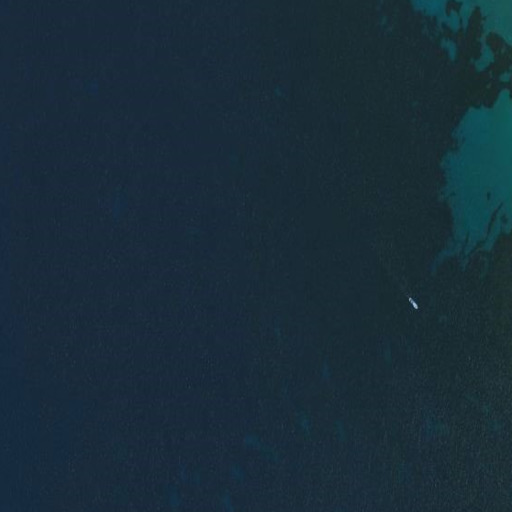ship: (406, 295, 420, 311)
